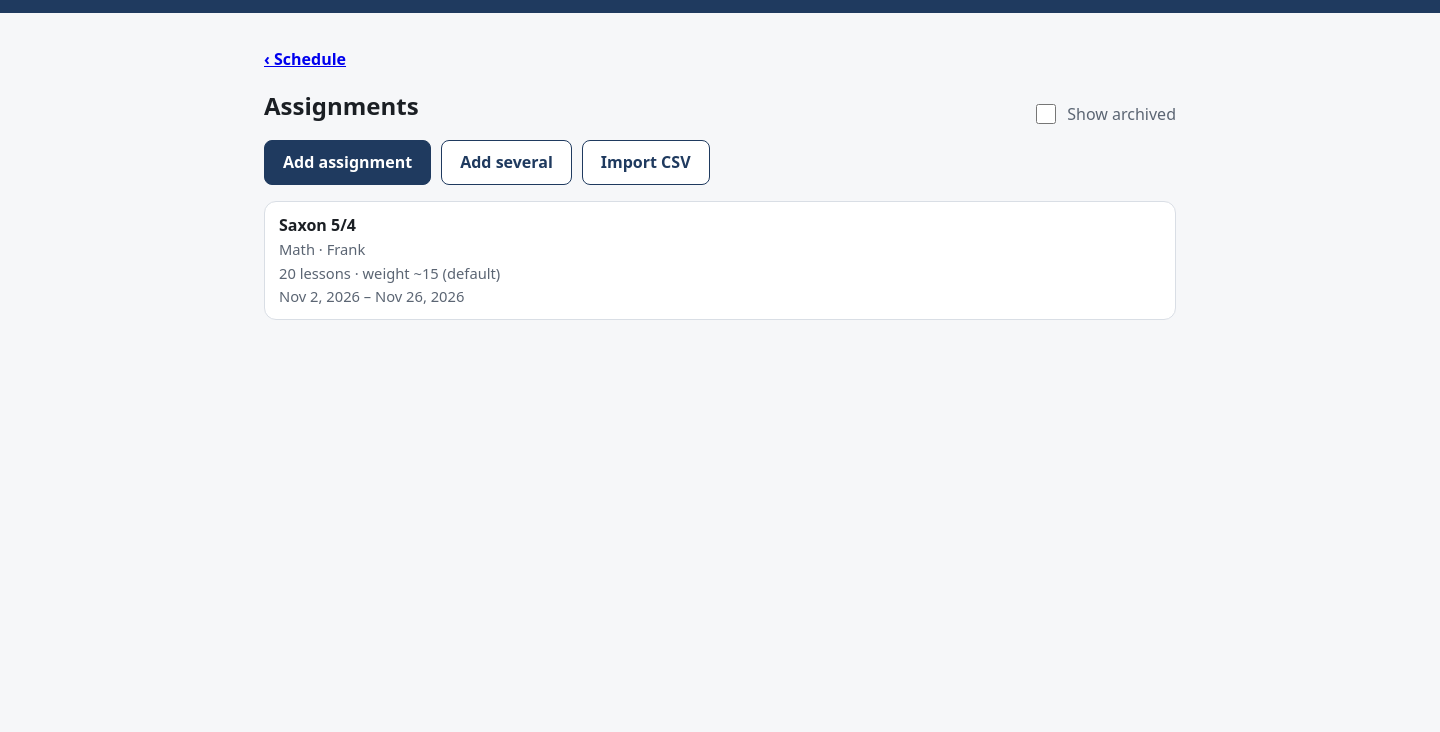
Scenario: Add several assignments (S3a-04) › needs at least one non-empty row, a subject, children and dates
Check: the list named "Assignments" is shown, box x1=264 y1=201 x2=1176 y2=320
Click the button "Add several" at (506, 162), box x1=441 y1=140 x2=572 y2=185
(page scrolled)
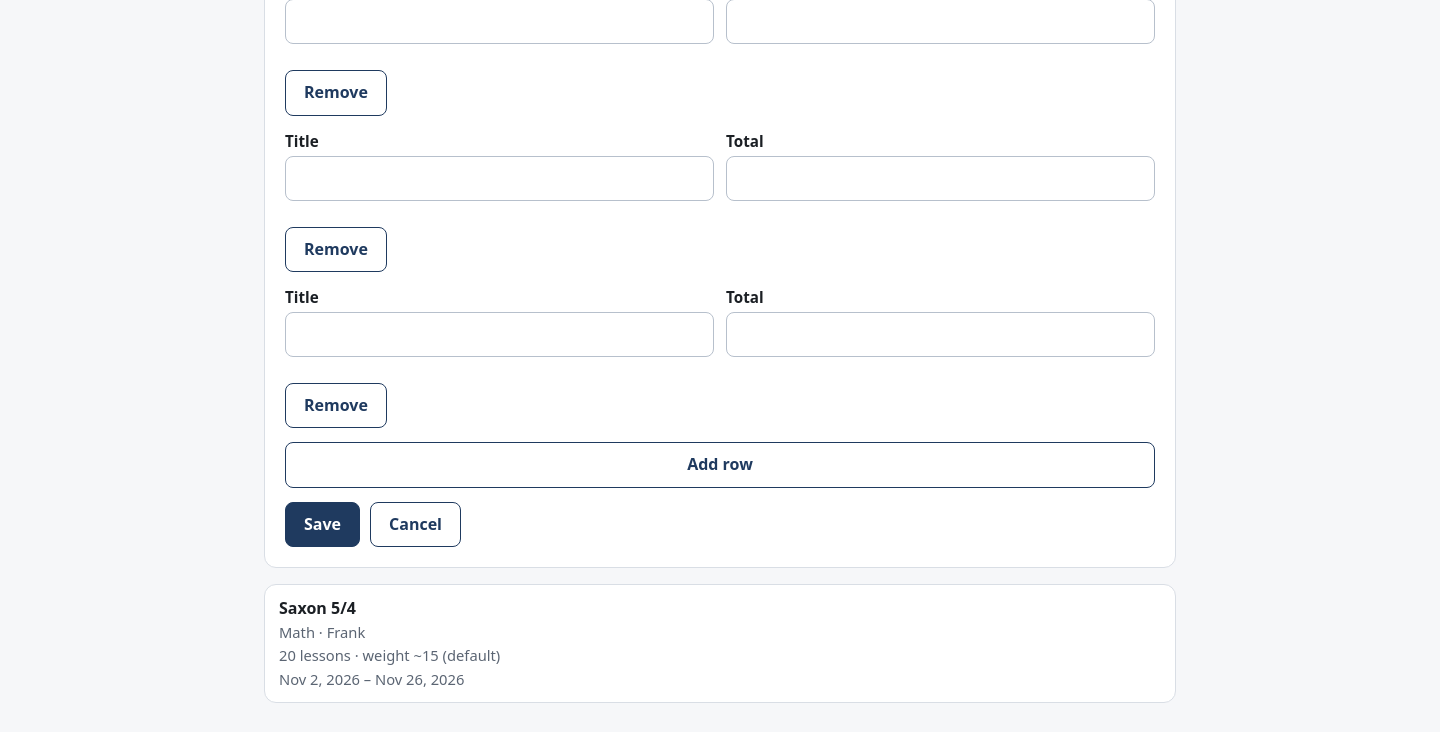
Click the button "Save" at (322, 524), box x1=285 y1=502 x2=360 y2=547
(page scrolled)
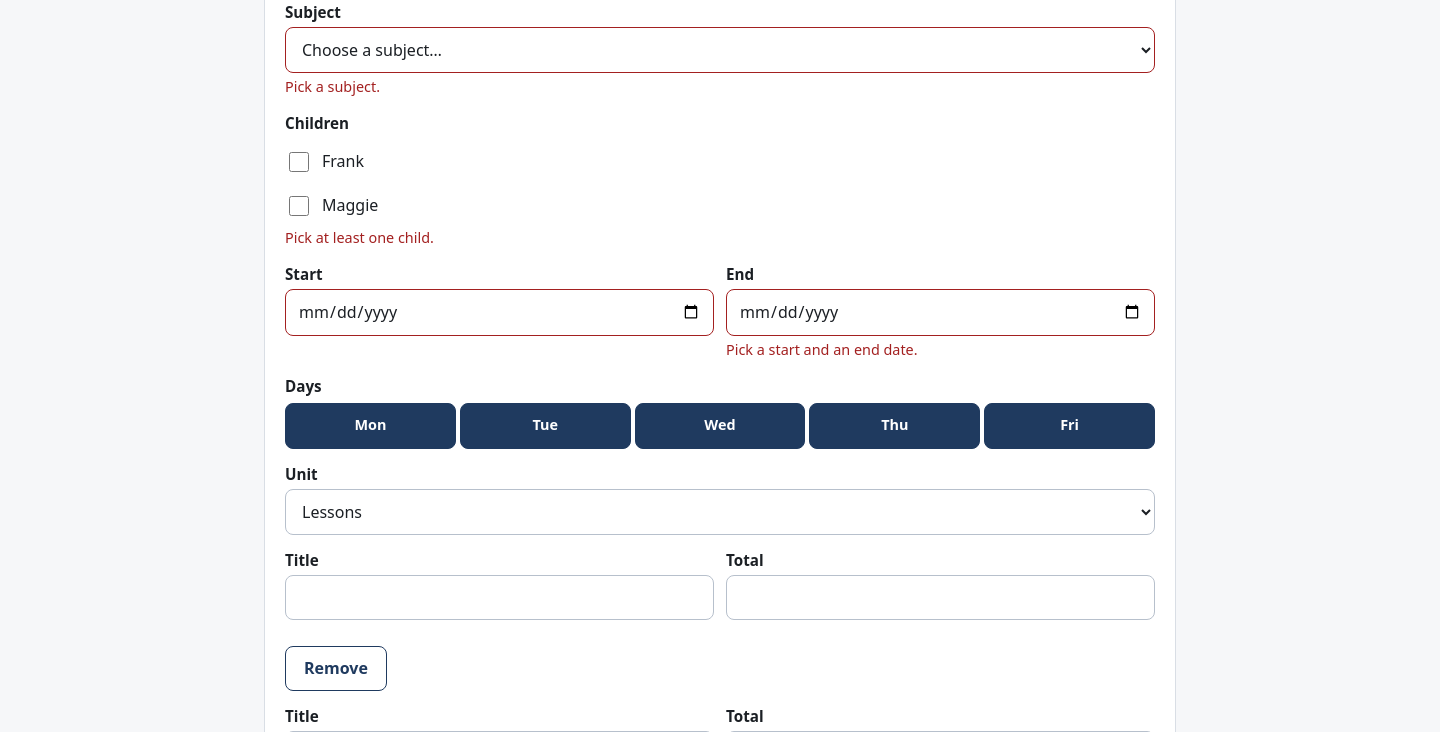
Check: the text "Pick a subject." is shown, box x1=285 y1=77 x2=380 y2=96
Check: the text "Pick at least one child." is shown, box x1=285 y1=228 x2=434 y2=247
Check: the text "Pick a start and an end date." is shown, box x1=726 y1=340 x2=918 y2=359
